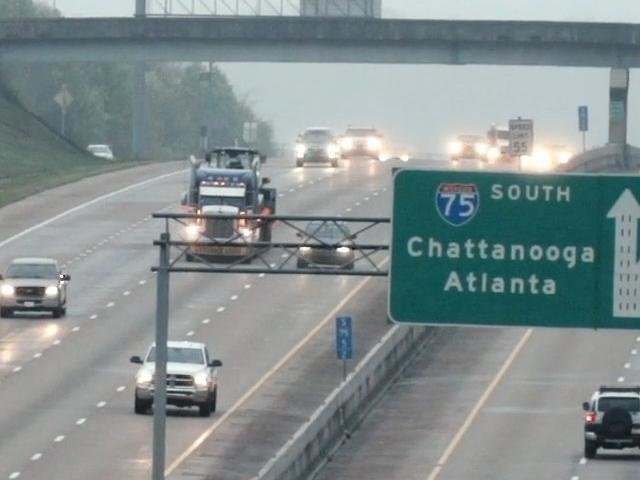car: (128, 343, 227, 417), (290, 212, 370, 275), (0, 256, 78, 318), (576, 385, 640, 455), (201, 145, 267, 178), (294, 129, 342, 169), (339, 128, 384, 161), (449, 134, 485, 164), (534, 143, 574, 169), (478, 138, 503, 162), (84, 143, 117, 160), (294, 131, 314, 157), (386, 154, 408, 173)
truck: (182, 143, 277, 258), (498, 117, 534, 159)
